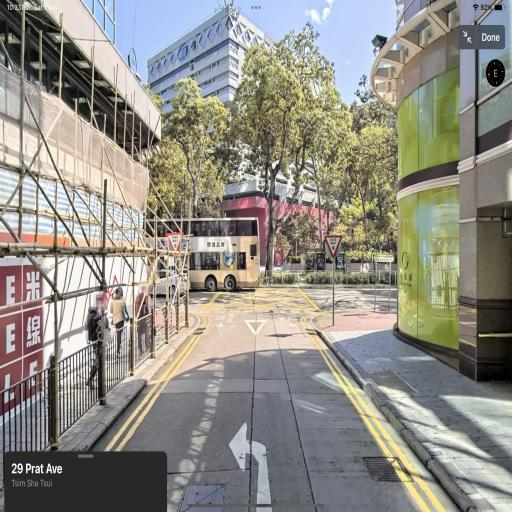Roads: (88, 254, 499, 505)
Trees: (224, 31, 388, 359), (146, 58, 221, 303)
